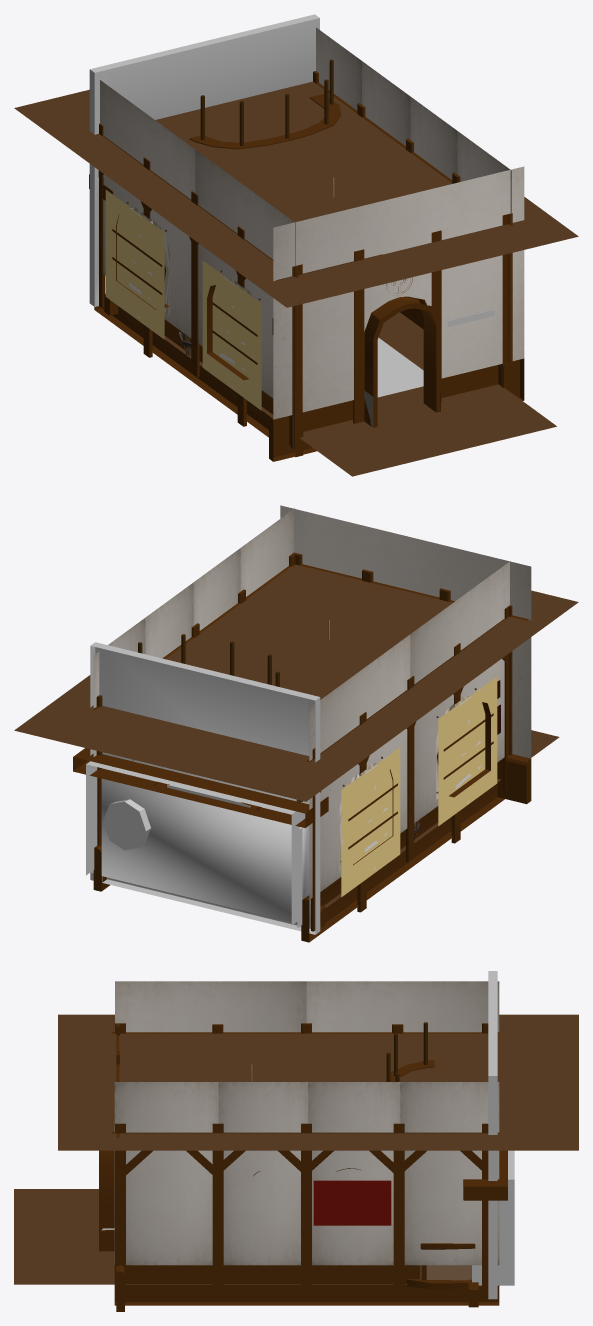
The model's file is escenariO2bar 1.fbx.
3 views of the same model, one above another, from view 1: azimuth 30°, elevation 25°; view 2: azimuth 150°, elevation 25°; view 3: azimuth 270°, elevation 25° (orthographic). The views are drawn at different scales.
Parts seen in each view (by area): view 1: techo, pared puerta, pared izq, pared fondo, suelo.001, pared derecha, cristal ventana, cristal ventana.001, suelo, alfombra, Cube.025, top counter.001 (+6 smaller); view 2: techo, pared fondo, pared izq, pared puerta, pared derecha, cristal ventana, cristal ventana.001, estanteria fondo, deco estanteria.010, Cube.019, Cube.018, Cube.017; view 3: pared derecha, techo, pared izq, suelo.001, pizarra recetas, pared fondo, pared puerta, estanteria fondo, Cube.015, Cube.016, Cube.014, deco estanteria.010 (+7 smaller).
Boxes of the visible parts, x1=… form: techo: x1=14, y1=81, x2=578, y2=307; pared puerta: x1=269, y1=166, x2=524, y2=461; pared izq: x1=94, y1=80, x2=303, y2=457; pared fondo: x1=89, y1=14, x2=319, y2=306; suelo.001: x1=300, y1=384, x2=556, y2=476; pared derecha: x1=316, y1=27, x2=511, y2=392; cristal ventana: x1=105, y1=189, x2=164, y2=339; cristal ventana.001: x1=202, y1=260, x2=261, y2=410; suelo: x1=164, y1=312, x2=423, y2=417; alfombra: x1=377, y1=337, x2=423, y2=397; Cube.025: x1=353, y1=249, x2=364, y2=423; top counter.001: x1=189, y1=94, x2=341, y2=149; techo: x1=14, y1=564, x2=578, y2=801; pared fondo: x1=90, y1=642, x2=320, y2=934; pared izq: x1=301, y1=561, x2=510, y2=942; pared puerta: x1=280, y1=505, x2=531, y2=804; pared derecha: x1=93, y1=508, x2=294, y2=891; cristal ventana: x1=341, y1=747, x2=400, y2=897; cristal ventana.001: x1=438, y1=676, x2=497, y2=826; estanteria fondo: x1=86, y1=761, x2=305, y2=925; deco estanteria.010: x1=73, y1=748, x2=328, y2=827; Cube.019: x1=406, y1=676, x2=414, y2=862; Cube.018: x1=503, y1=605, x2=510, y2=790; Cube.017: x1=311, y1=748, x2=315, y2=931; pared derecha: x1=114, y1=1082, x2=499, y2=1305; techo: x1=58, y1=1014, x2=578, y2=1150; pared izq: x1=115, y1=981, x2=499, y2=1032; suelo.001: x1=14, y1=1189, x2=114, y2=1284; pizarra recetas: x1=313, y1=1180, x2=391, y2=1225; pared fondo: x1=488, y1=971, x2=497, y2=1299; pared puerta: x1=99, y1=1150, x2=124, y2=1311; estanteria fondo: x1=472, y1=1150, x2=514, y2=1285; Cube.015: x1=212, y1=1123, x2=223, y2=1297; Cube.016: x1=393, y1=1123, x2=404, y2=1297; Cube.014: x1=301, y1=1123, x2=311, y2=1297; deco estanteria.010: x1=463, y1=1150, x2=507, y2=1200.
Size of the model in its own units: 569 by 464 by 999.
